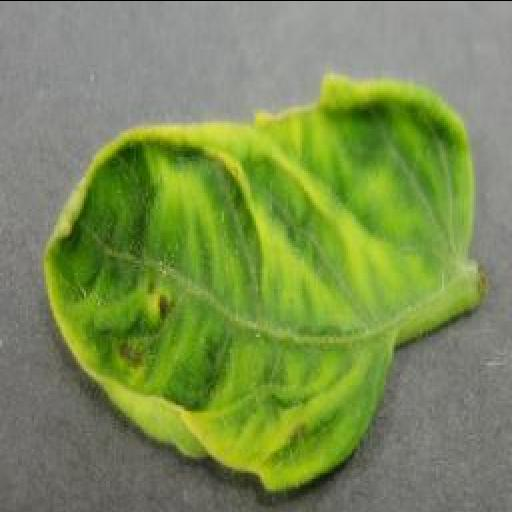disease_tomato: (40, 72, 482, 494)
